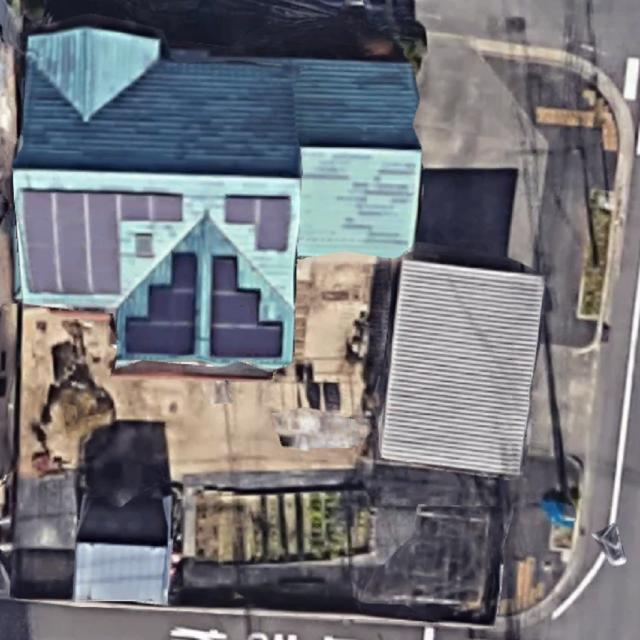Batiment: (14, 27, 421, 369), (380, 260, 544, 475)
